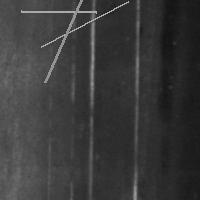scratches: (36, 0, 133, 52), (40, 0, 86, 87), (128, 1, 144, 198), (84, 1, 98, 197), (16, 6, 101, 17)
